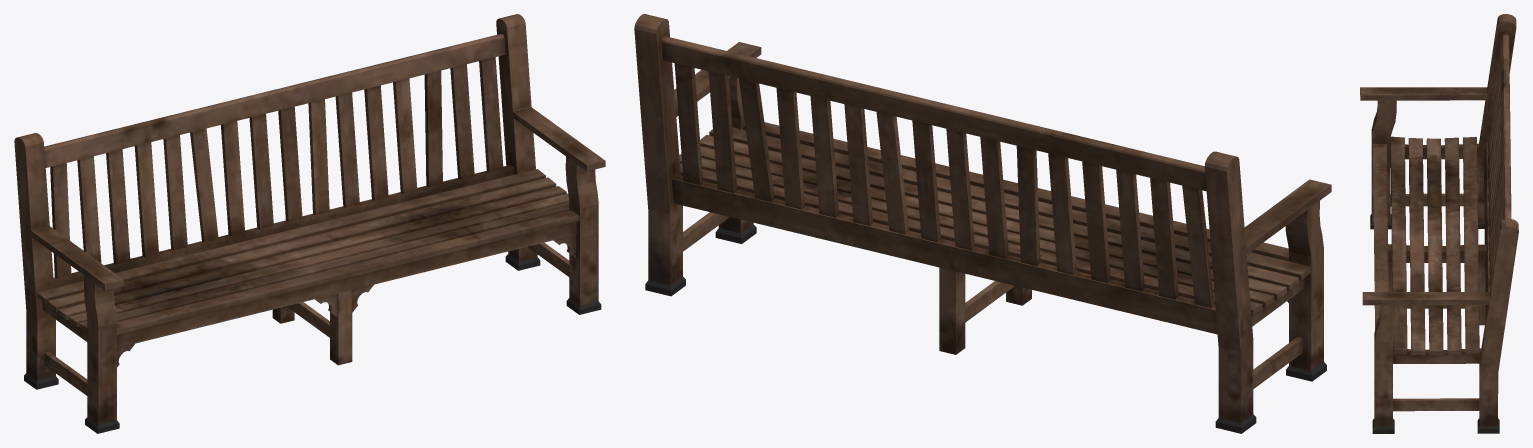
File: banco.glb
The picture shows the model from 3 angles, left to right: view 1: azimuth 30°, elevation 25°; view 2: azimuth 150°, elevation 25°; view 3: azimuth 270°, elevation 25°; orthographic projection. The views are drawn at different scales.
Parts seen in each view (by area): view 1: Bench; view 2: Bench; view 3: Bench.
Boxes of the visible parts, x1,y1,x2,y2 form: Bench: (14, 14, 605, 433); Bench: (634, 14, 1331, 433); Bench: (1360, 14, 1518, 433).
Size of the model in its own units: 2.66 by 1.2 by 0.8338.
Materials: 1 (1 with a texture image).
